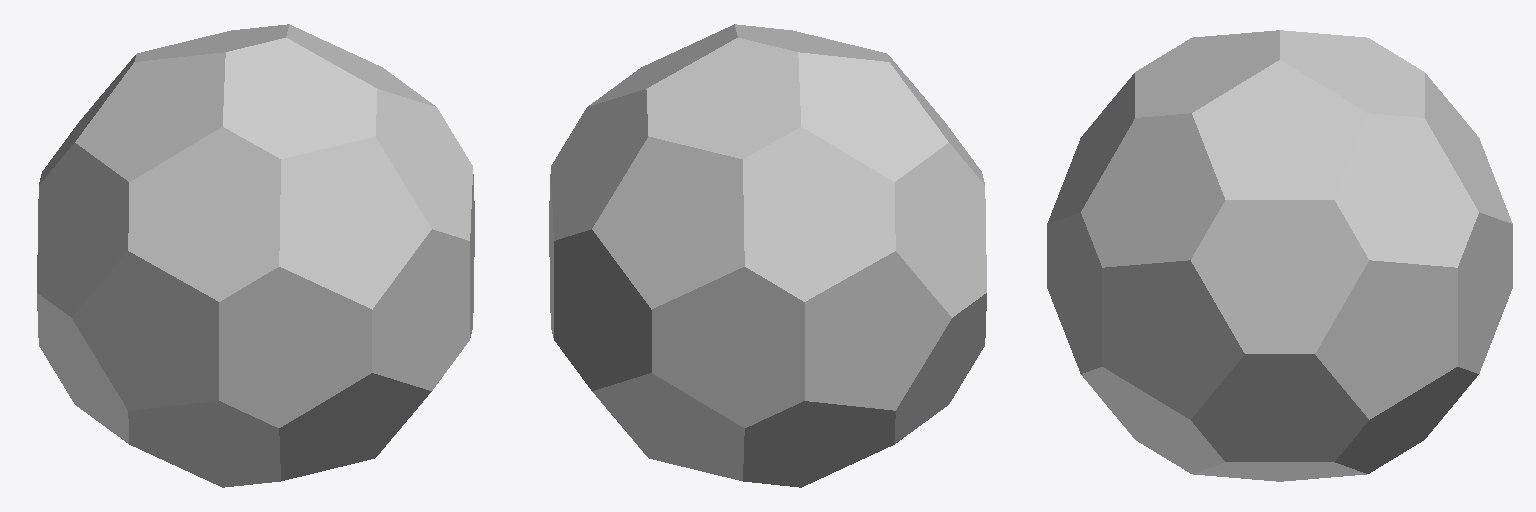
The model's file is EqualAreaTruncatedIcosahedron.obj.
The picture shows the model from 3 angles: view 1: azimuth 30°, elevation 25°; view 2: azimuth 150°, elevation 25°; view 3: azimuth 270°, elevation 25°; orthographic projection.
Parts seen in each view (by area): view 1: Solid.018; view 2: Solid.018; view 3: Solid.018.
Boxes of the visible parts, x1,y1,x2,y2 form: Solid.018: [37, 24, 474, 487]; Solid.018: [549, 24, 986, 487]; Solid.018: [1047, 30, 1512, 481].
Bounding box in the file's own units: 1.7 × 1.7 × 1.7.